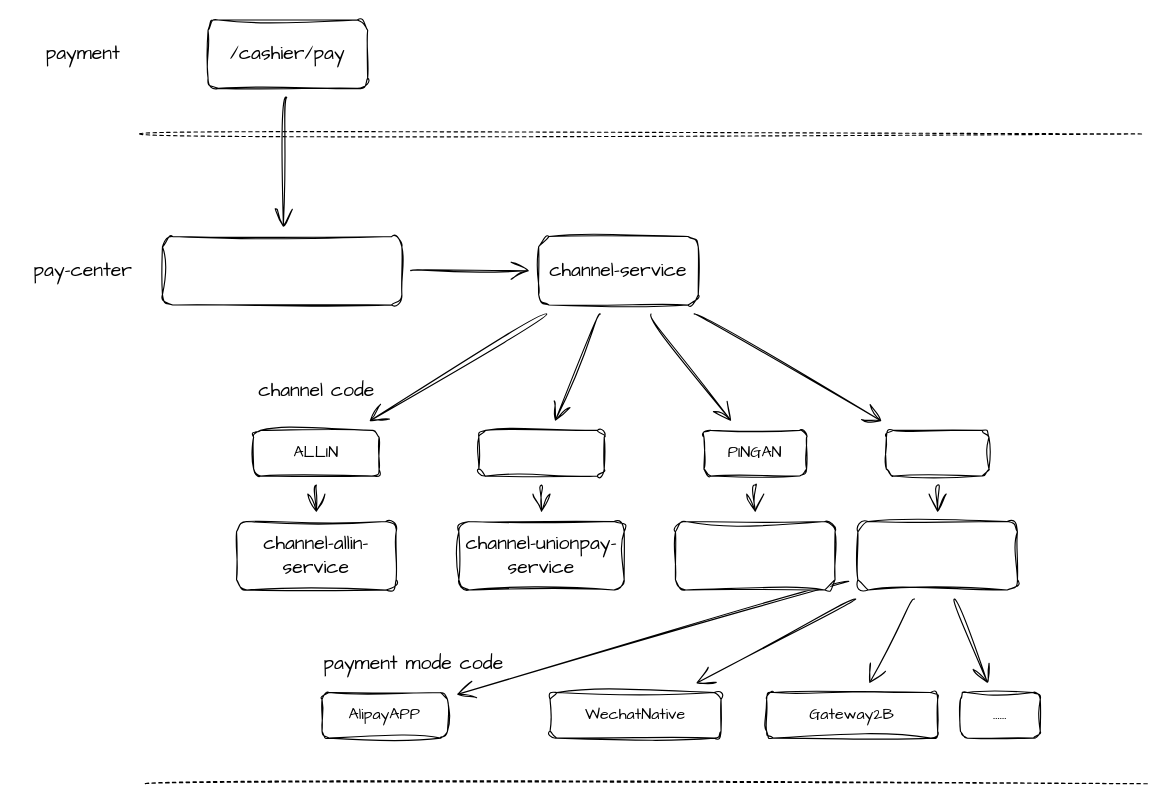
Image size: 1169x804. Some labels were removed from this diagram. Each missing label, with the centre of its shape:
/openapi/payment/pay: point 281,270
channel-lianlian-service: point 937,555
channel-pingan-service: point 754,555
LIANLIAN: point 937,452
UNIONPAY: point 541,452
